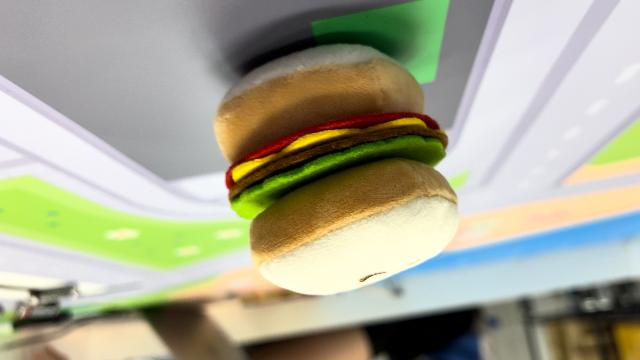sandwich: (210, 41, 462, 296)
